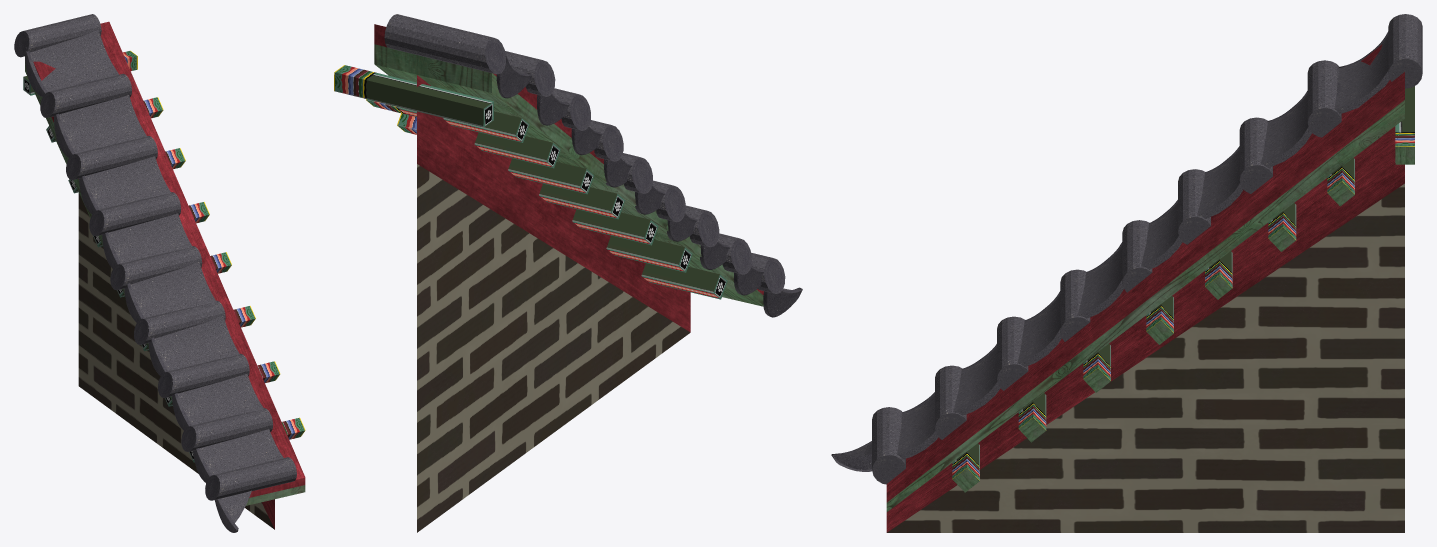
Rendered from SM_R_RoofOuter_13.fbx.
3 views of the same model, side by side, from view 1: azimuth 30°, elevation 25°; view 2: azimuth 150°, elevation 25°; view 3: azimuth 270°, elevation 25° (orthographic). The views are drawn at different scales.
Visible parts, largest first — view 1: SM_R_RoofOuter_13; view 2: SM_R_RoofOuter_13; view 3: SM_R_RoofOuter_13.
Part boxes in pixels (bbox=[...]): SM_R_RoofOuter_13: bbox=[14, 14, 305, 532]; SM_R_RoofOuter_13: bbox=[334, 14, 802, 532]; SM_R_RoofOuter_13: bbox=[831, 14, 1422, 532].
Bounding box in the file's own units: 95.77 × 307 × 278.
Materials: 4 (4 with a texture image).
